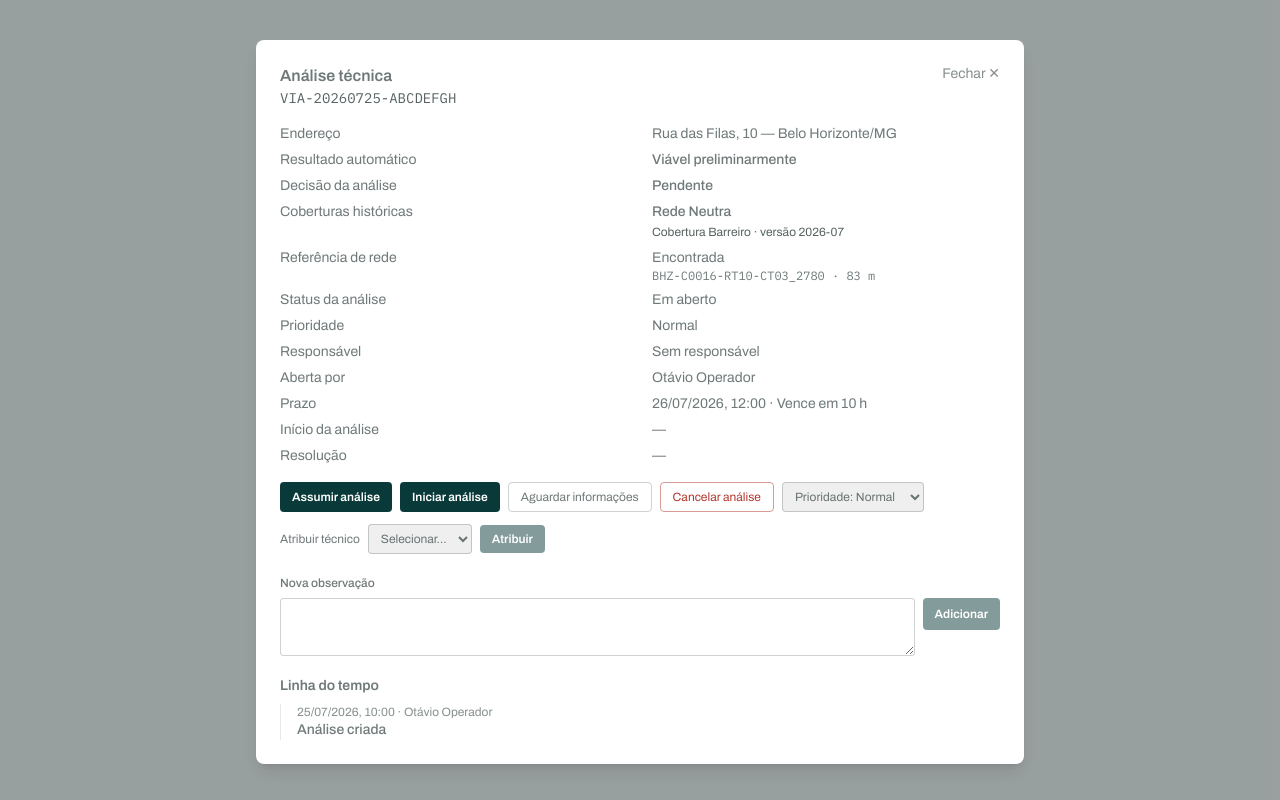
Test: ReviewDetailsDialog — detalhes e ações › REVIEW_CONFLICT recarrega os dados e avisa, sem sobrescrever
What coordinates should you click on to do the following:
click the button "Iniciar análise"
I would click on:
 (450, 497)
Its box is [400,482,500,512].
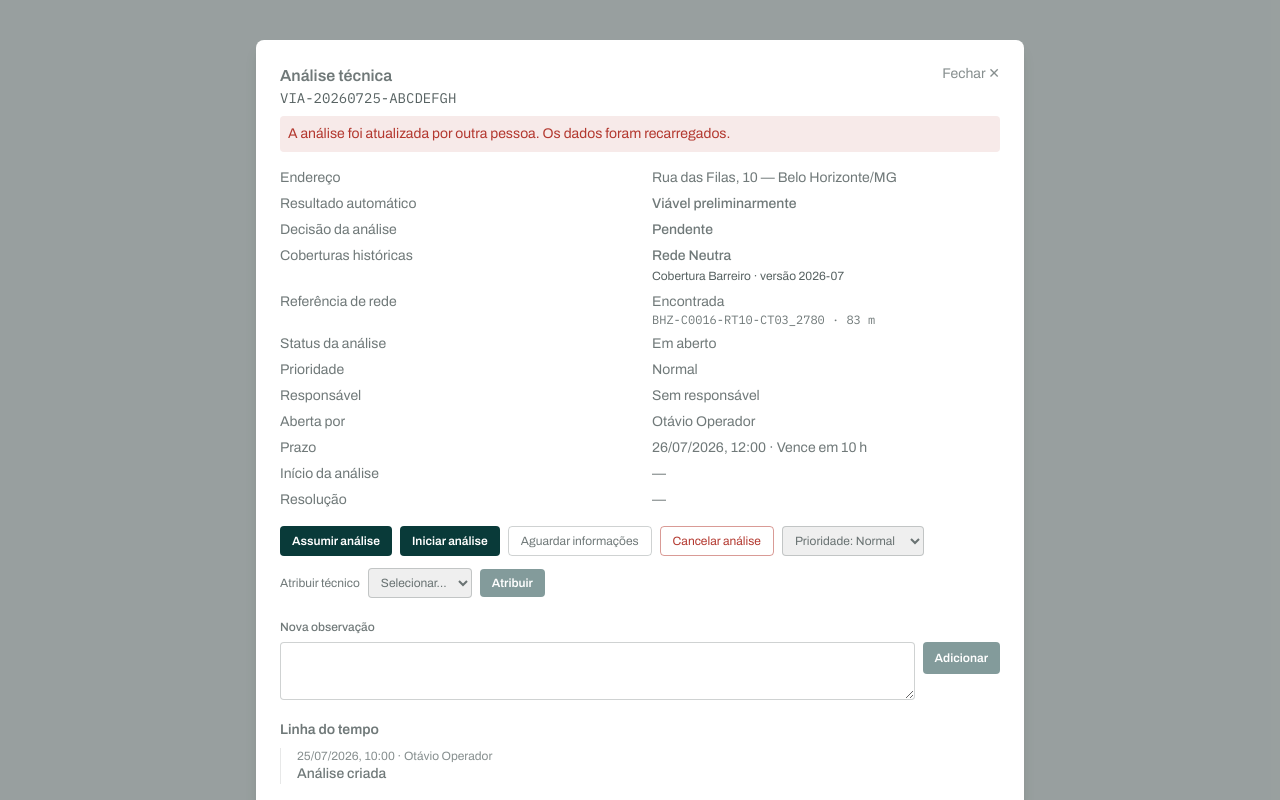
Result: the text "A análise foi atualizada por outra pessoa. Os dados foram recarregados." is shown at [280,116,1000,152]
